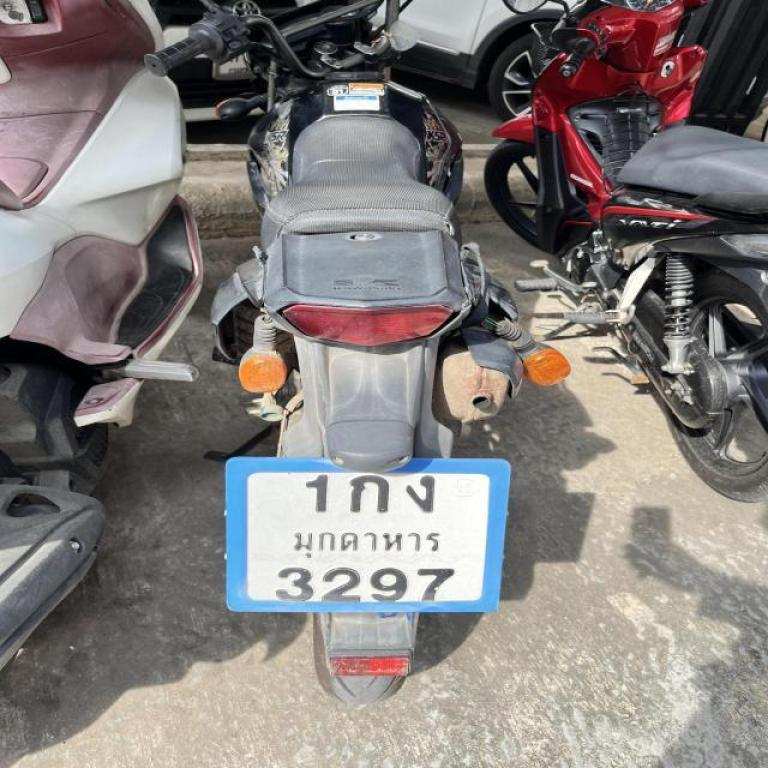license plate: (227, 458, 509, 612)
